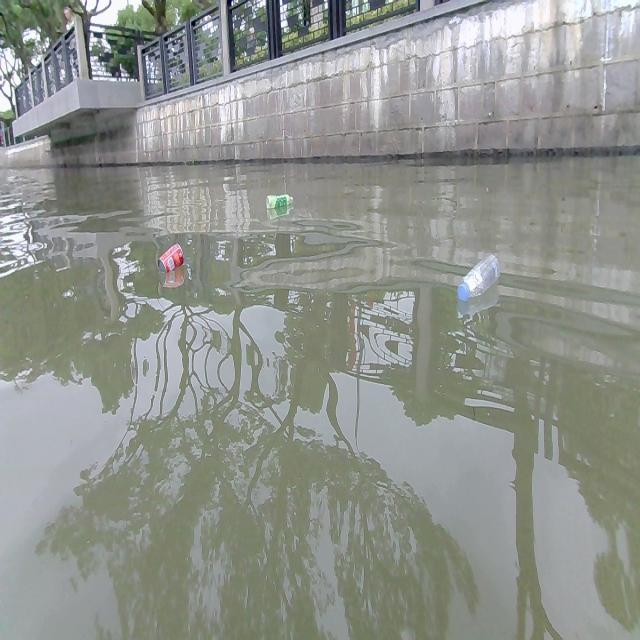bottle: (457, 246, 499, 305), (157, 240, 183, 275), (262, 192, 296, 211)
